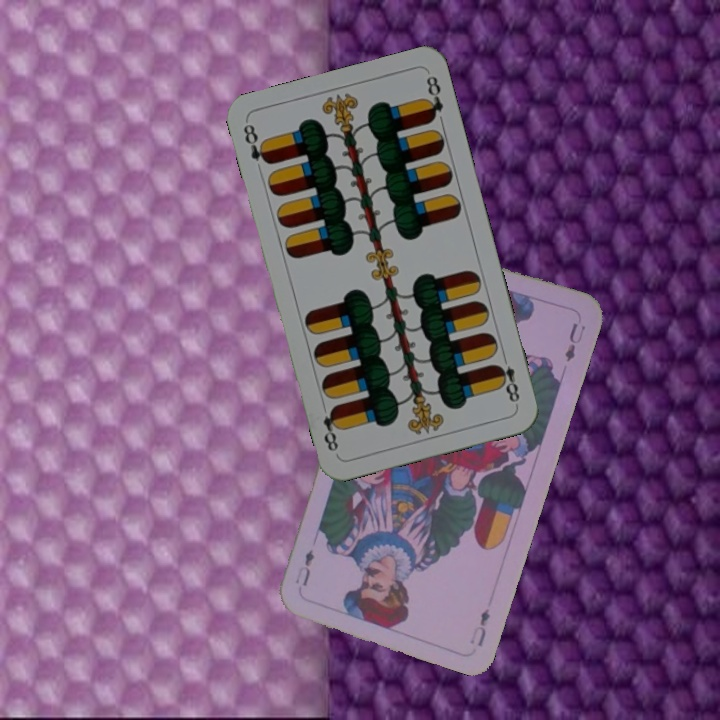E8: (491, 350, 522, 408), (239, 120, 273, 167)
EU: (465, 604, 493, 649)
